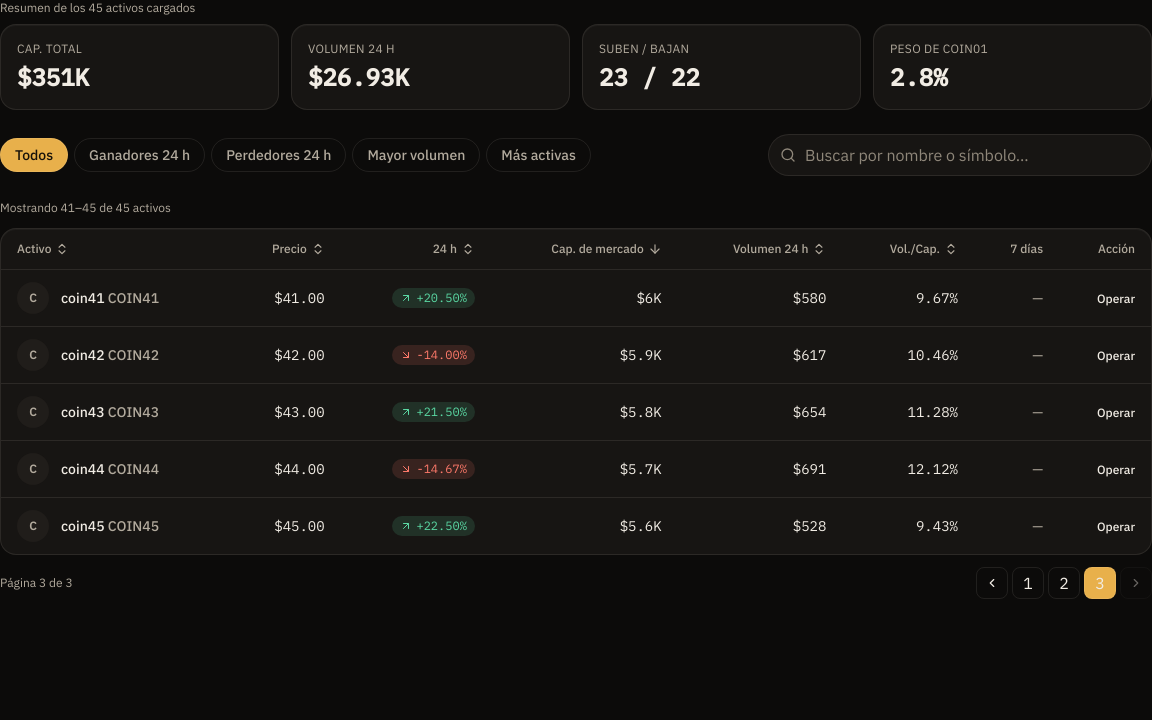
Test: MarketExplorer: search › searching returns to the first page
Type "coin" into the search field labelled "Buscar por nombre o símbolo".
click(960, 155); type("coin")  # box [768,134,1151,176]
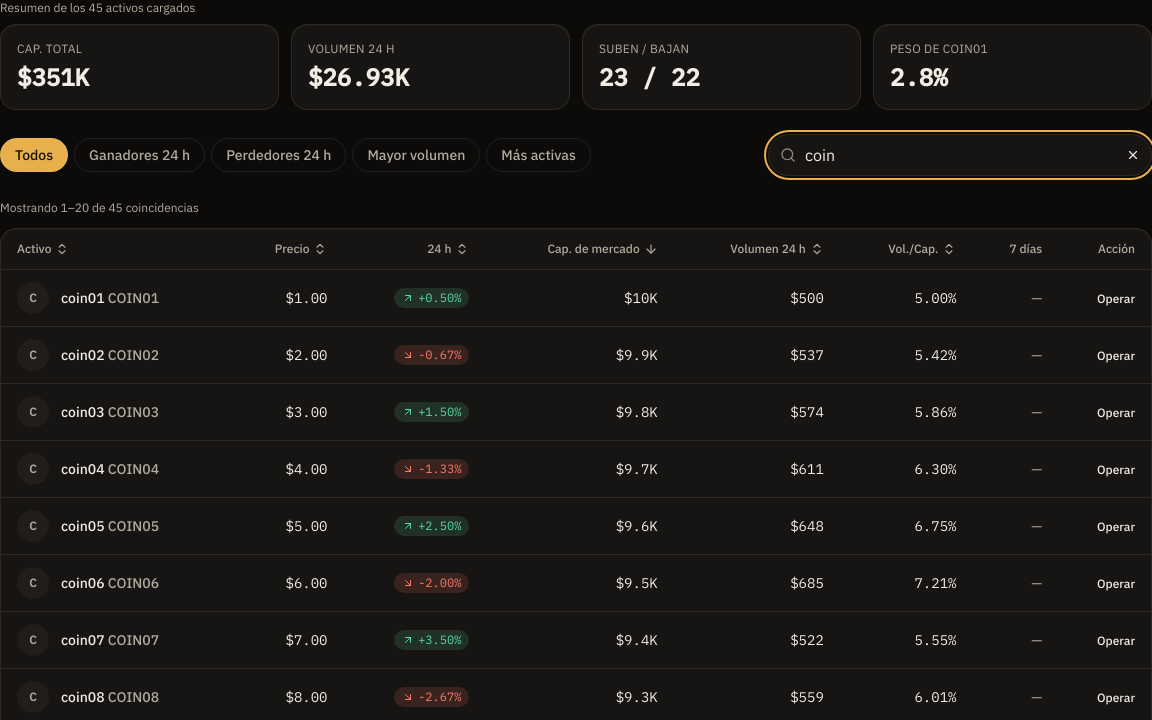
Expected: the message reads "Mostrando 1–20 de 45 coincidencias", [0,200,199,215]
